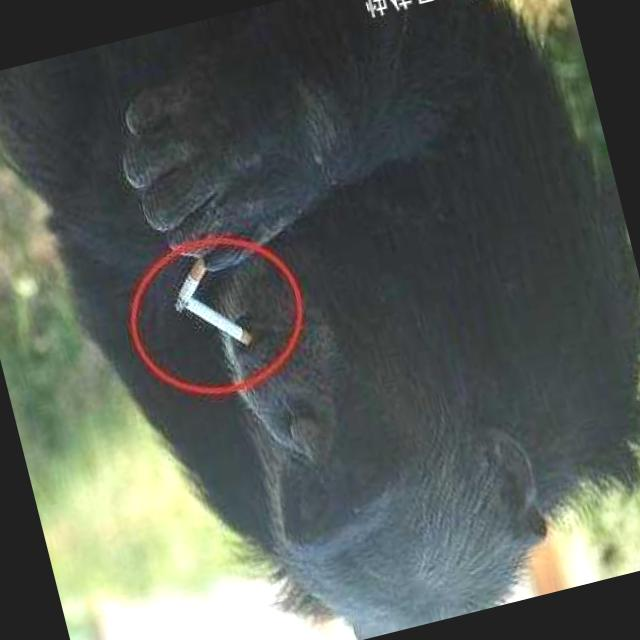smoke: (185, 291, 257, 361), (163, 260, 215, 313)
